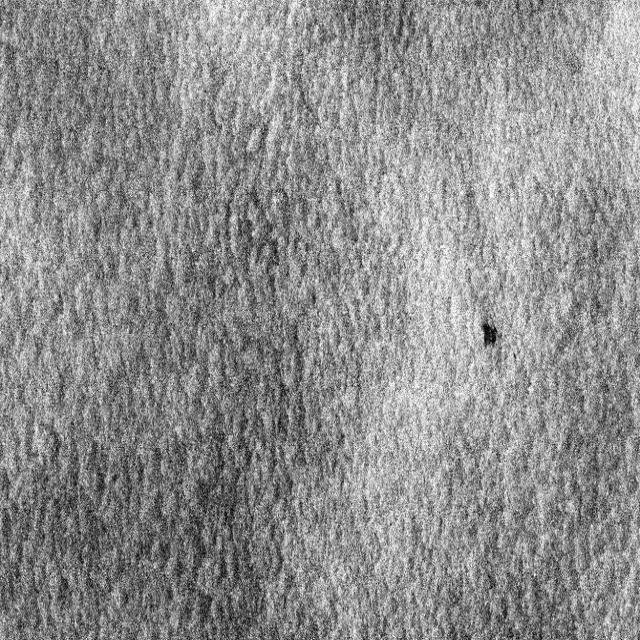oil-spill: (474, 304, 508, 361)
